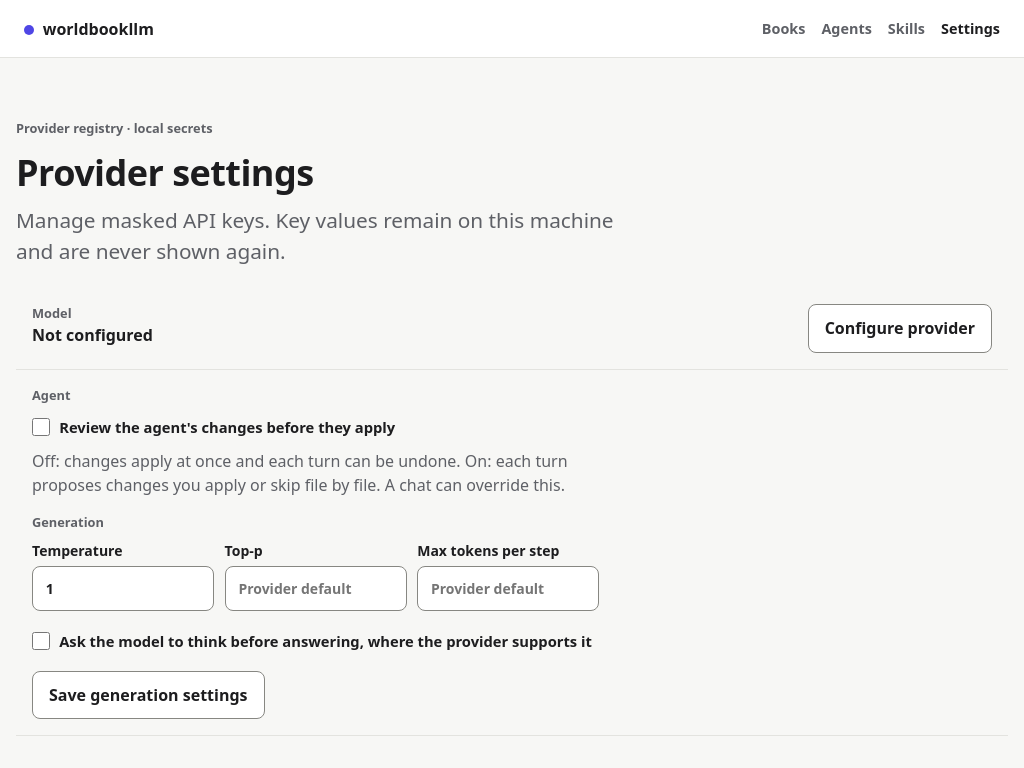
Test: Provider settings › saves the agent generation settings
The width and height of the screenshot is (1024, 768).
Replace the text in the number field labelled "Temperature" with "0.7" at (123, 588), box [32,566,214,611]
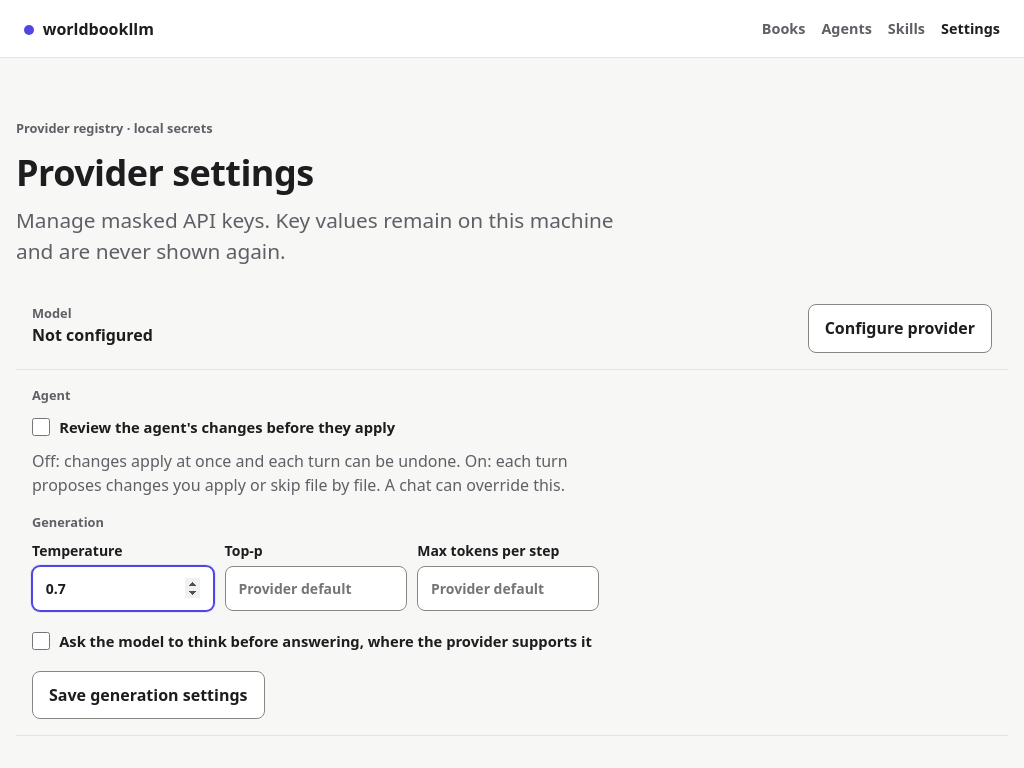
Type "2048" into the number field labelled "Max tokens per step" at (508, 588), box [417,566,599,611]
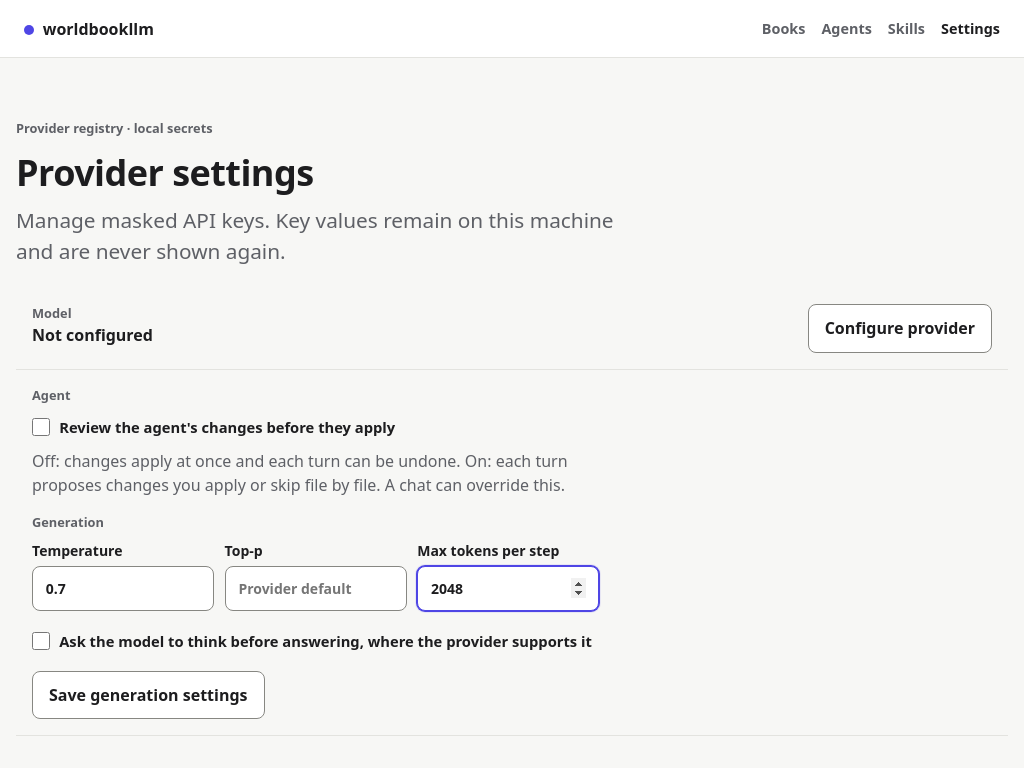
Click the checkbox labelled "think before answering" at (41, 641), box [32,632,50,650]
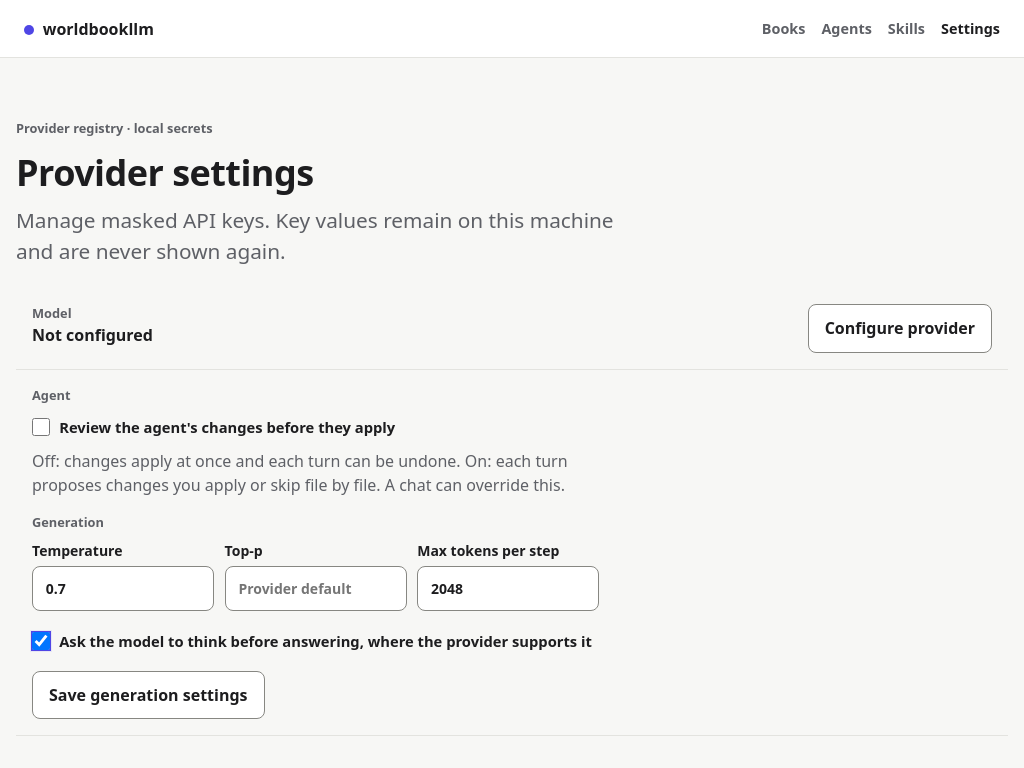
Click the button "Save generation settings" at (148, 695), box [32,671,264,720]
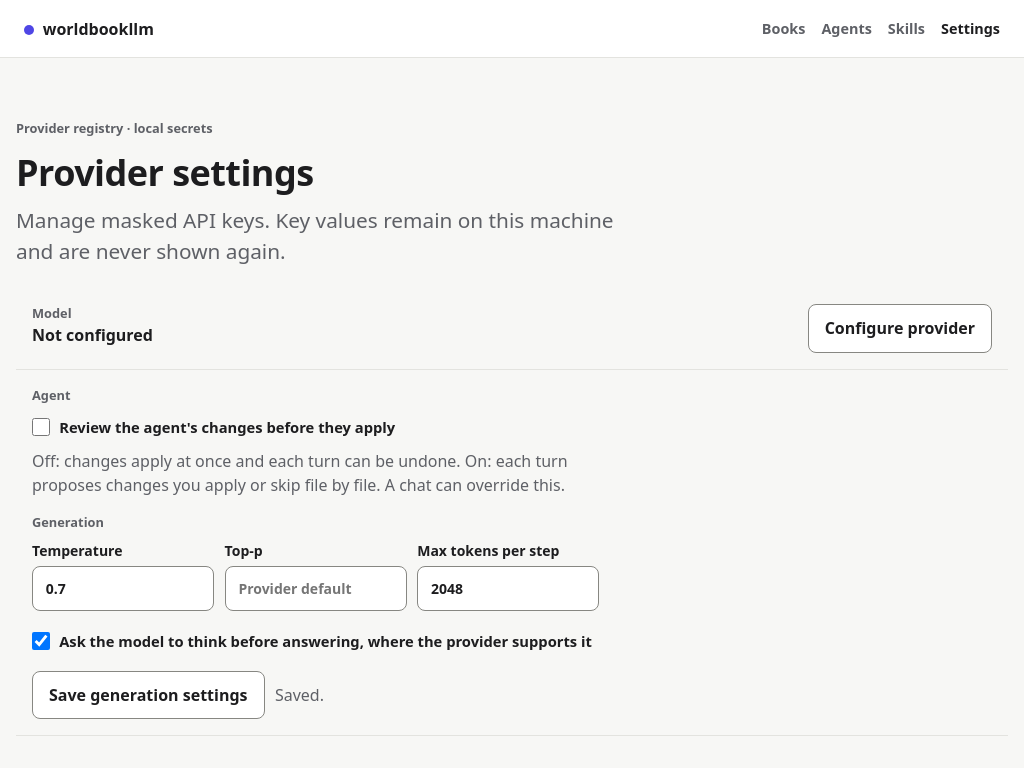
Now the text "Saved." is shown, box [275,683,324,707]
